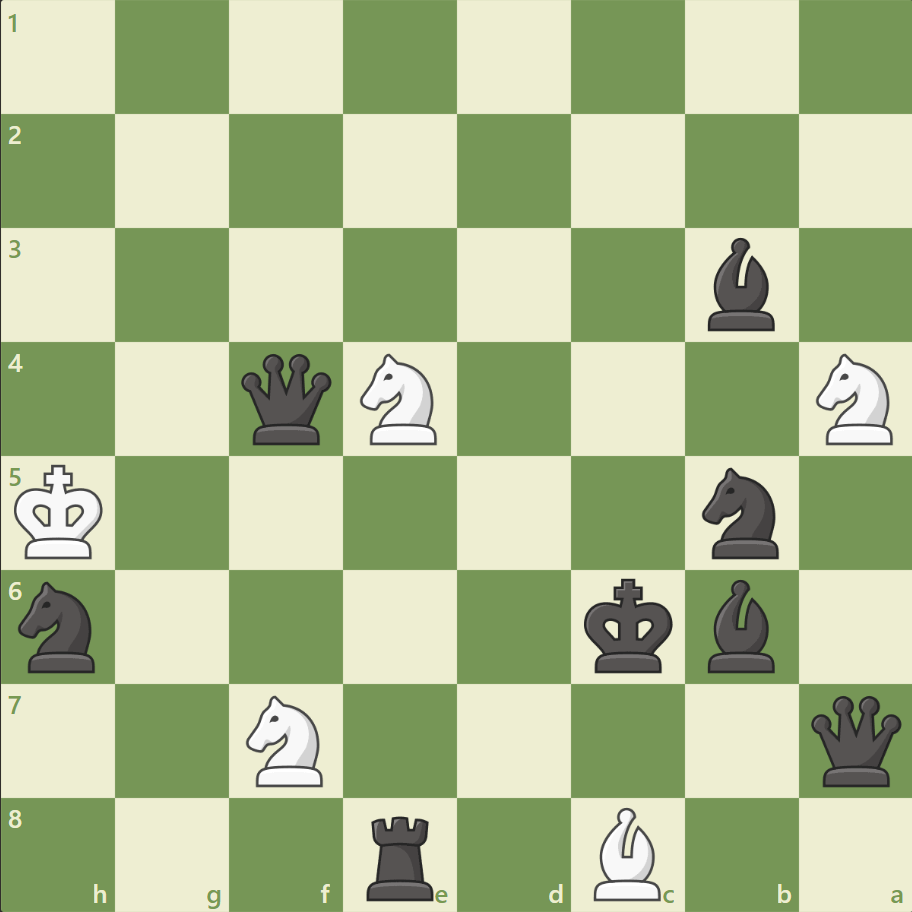B: (585, 801, 669, 904)
K: (11, 458, 111, 566)
N: (351, 348, 449, 450), (238, 688, 335, 791), (806, 348, 903, 450)
b: (698, 233, 782, 336), (698, 574, 782, 676)
k: (579, 571, 679, 679)
n: (692, 461, 789, 564), (11, 575, 108, 677)
q: (237, 349, 336, 449), (805, 690, 904, 789)
r: (360, 806, 442, 904)
